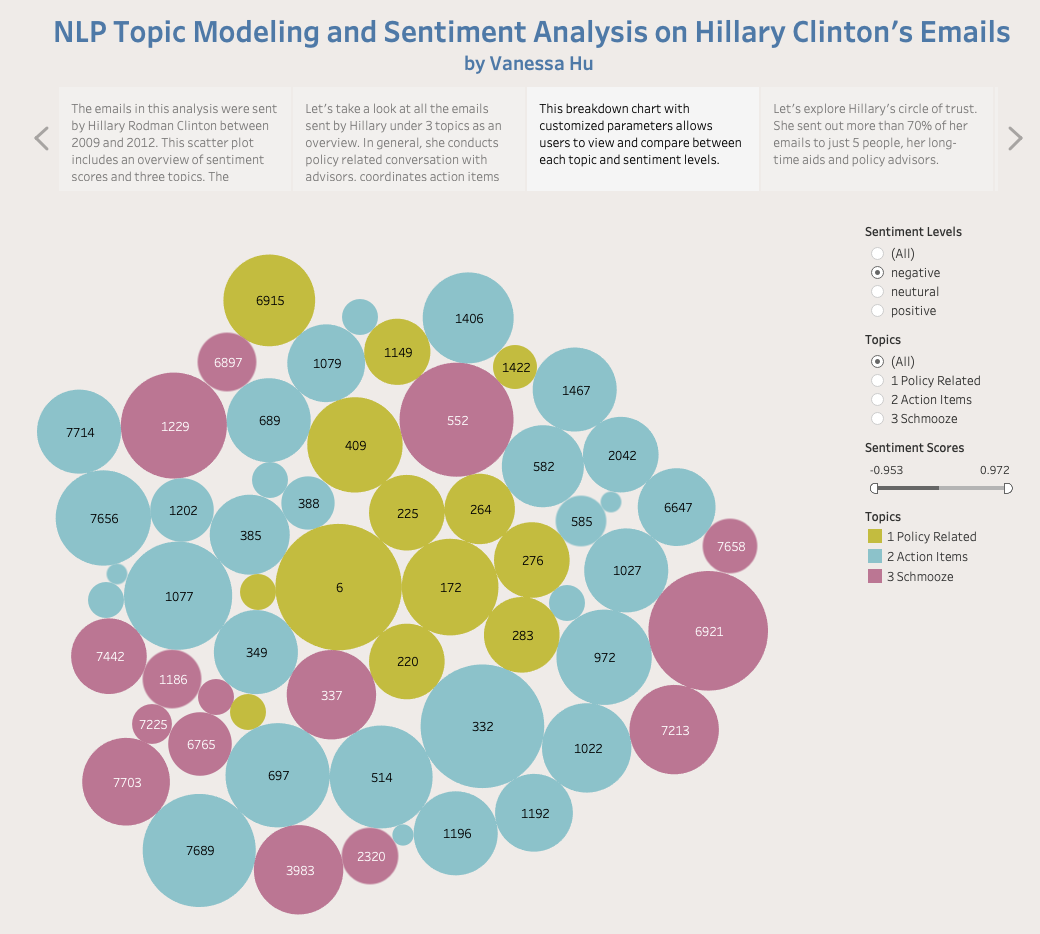

The page's visual inventory and layout, read from the dashboard file:
{"tool":"tableau","page":{"name":"Emails Sent by Hillary Dashboard","canvas":[1000,800],"ordinal":1},"visuals":[{"type":"worksheet","box":[0,0,1000,800]},{"type":"worksheet","param":"horz","box":[8,8,984,784]},{"type":"worksheet","box":[8,8,824,784]},{"type":"worksheet","title":"NLP Hillary Cliton's Emails on Topic Modeling and Sentiment Analysis","mark":"Circle","box":[8,8,824,784]},{"type":"worksheet","param":"vert","box":[832,8,160,784]},{"type":"worksheet","title":"NLP Hillary Cliton's Emails on Topic Modeling and Sentiment Analysis","mark":"Circle","param":"[federated.0xkhoce0b1q61t140bgjl0zeisxr].[none:pred_nltk:nk]","box":[832,8,160,108]},{"type":"worksheet","title":"NLP Hillary Cliton's Emails on Topic Modeling and Sentiment Analysis","mark":"Circle","param":"[federated.0xkhoce0b1q61t140bgjl0zeisxr].[none:topic:nk]","box":[832,116,160,108]},{"type":"worksheet","title":"NLP Hillary Cliton's Emails on Topic Modeling and Sentiment Analysis","mark":"Circle","param":"[federated.0xkhoce0b1q61t140bgjl0zeisxr].[sum:scores_nltk:qk]","box":[832,224,160,69]},{"type":"worksheet","title":"NLP Hillary Cliton's Emails on Topic Modeling and Sentiment Analysis","mark":"Circle","param":"[federated.0xkhoce0b1q61t140bgjl0zeisxr].[none:topic:nk]","box":[832,293,160,86]}]}

Visuals, with their boxes on the page's 1000x800 design canvas (x1, y1, x2, y2). These are canvas units, not pixel positions in the 1040x934 screenshot, which may show the page scaled, cropped or inside an application window:
worksheet: [0, 0, 1000, 800]
worksheet: [8, 8, 992, 792]
worksheet: [8, 8, 832, 792]
"NLP Hillary Cliton's Emails on Topic Modeling and Sentiment Analysis" worksheet (Circle marks): [8, 8, 832, 792]
worksheet: [832, 8, 992, 792]
"NLP Hillary Cliton's Emails on Topic Modeling and Sentiment Analysis" worksheet (Circle marks): [832, 8, 992, 116]
"NLP Hillary Cliton's Emails on Topic Modeling and Sentiment Analysis" worksheet (Circle marks): [832, 116, 992, 224]
"NLP Hillary Cliton's Emails on Topic Modeling and Sentiment Analysis" worksheet (Circle marks): [832, 224, 992, 293]
"NLP Hillary Cliton's Emails on Topic Modeling and Sentiment Analysis" worksheet (Circle marks): [832, 293, 992, 379]
